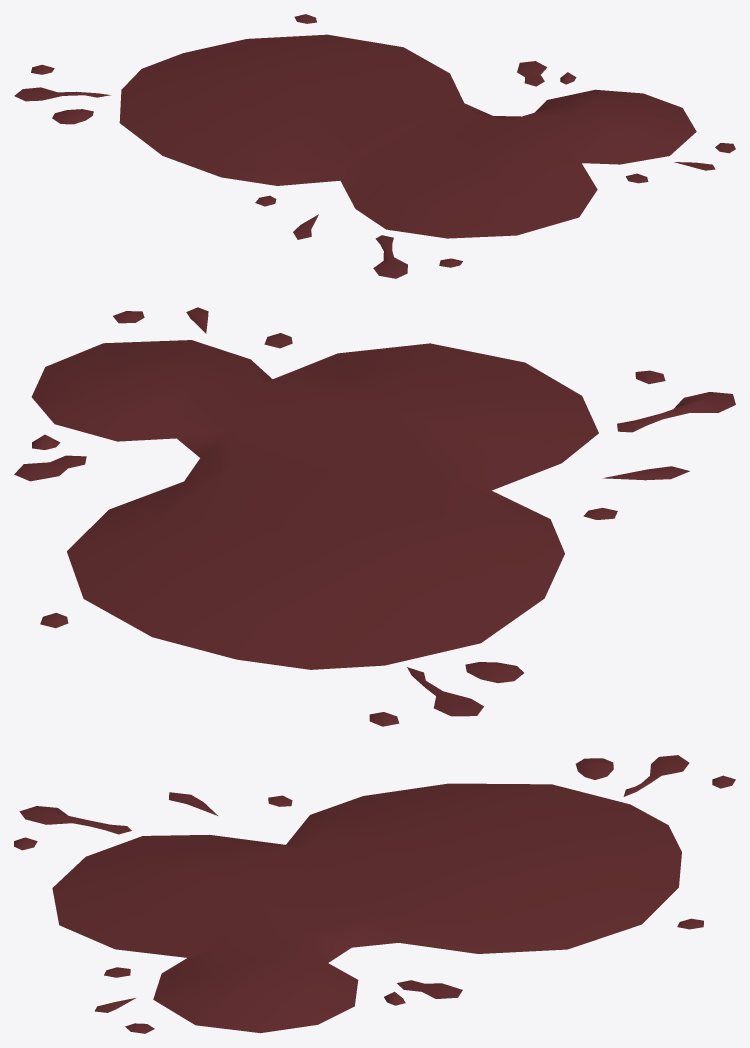
The model's file is Blood 02.fbx.
The picture shows the model from 3 angles, top to bottom: view 1: azimuth 30°, elevation 25°; view 2: azimuth 150°, elevation 25°; view 3: azimuth 270°, elevation 25°; orthographic projection. The views are drawn at different scales.
Visible parts, largest first — view 1: Blood_02; view 2: Blood_02; view 3: Blood_02.
Boxes of the visible parts, x1,y1,x2,y2 form: Blood_02: (14,14,735,278); Blood_02: (14,307,735,726); Blood_02: (14,755,735,1033).
Size of the model in its own units: 50.01 by 1.55 by 54.72.
